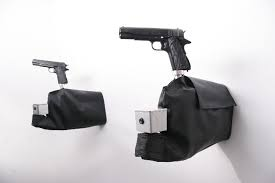gun: (116, 22, 198, 75), (27, 57, 76, 88)
